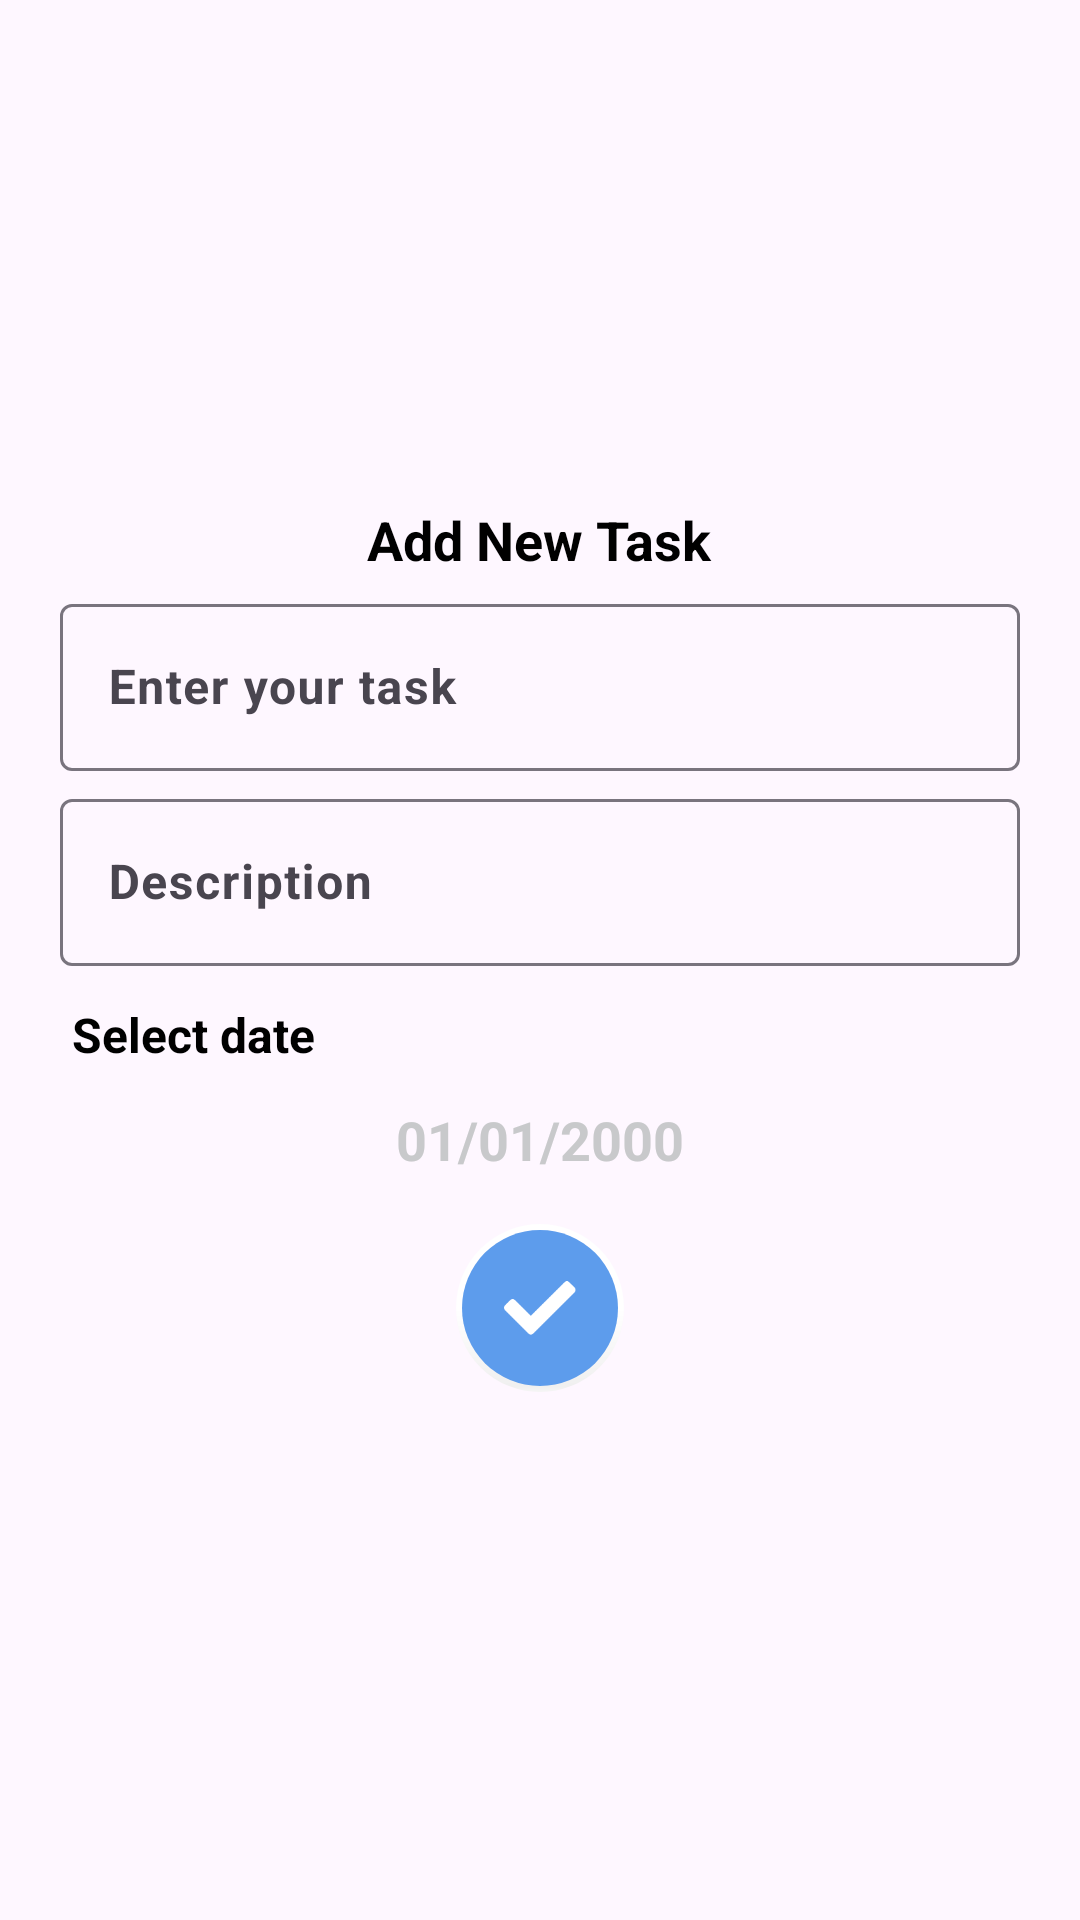

Icon click points for this 1080x1920 phone screenshot, format point (x, y):
done: point (540, 1308)
